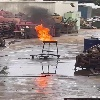fire: (34, 24, 57, 41)
